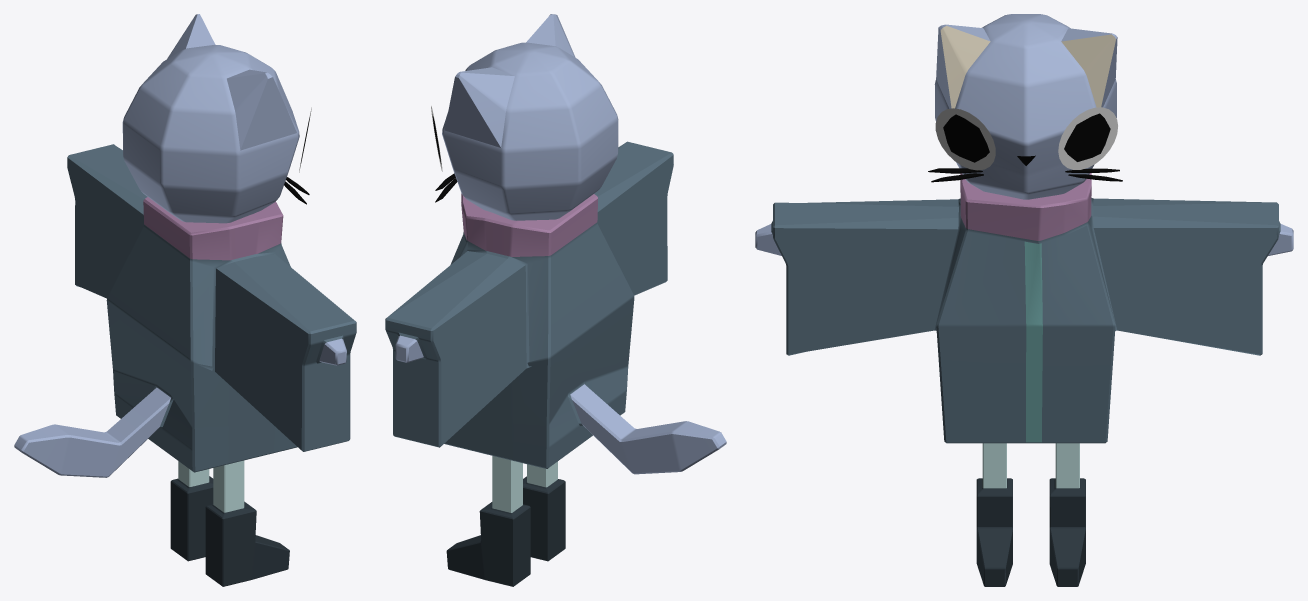
The model's file is Cat_NPC.fbx.
The picture shows the model from 3 angles, left to right: view 1: azimuth 30°, elevation 25°; view 2: azimuth 150°, elevation 25°; view 3: azimuth 270°, elevation 25°; orthographic projection. The views are drawn at different scales.
Visible parts, largest first — view 1: Cat; view 2: Cat; view 3: Cat.
Part boxes in pixels (bbox=[...]): Cat: bbox=[14, 14, 356, 586]; Cat: bbox=[385, 14, 726, 586]; Cat: bbox=[755, 14, 1293, 586].
Bounding box in the file's own units: 2.85 × 5.13 × 4.62.
